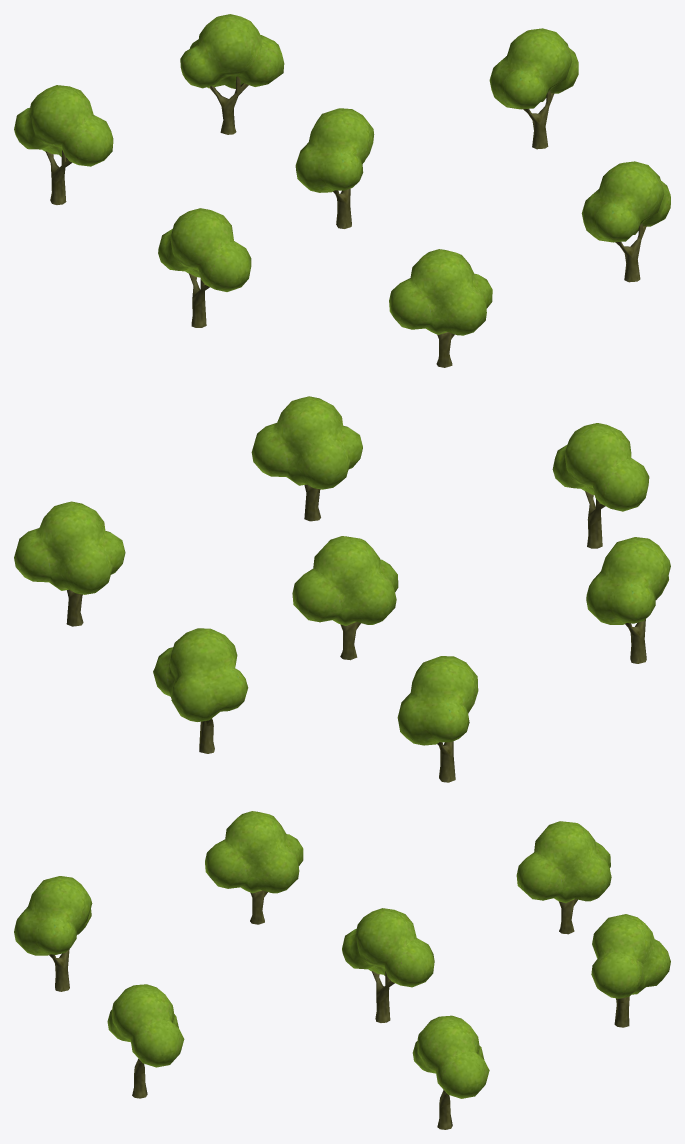
Rendered from chicken_gun_grassdaynight.glb.
3 renders of one model, top to bottom at view 1: azimuth 30°, elevation 25°; view 2: azimuth 150°, elevation 25°; view 3: azimuth 270°, elevation 25°, orthographic. The views are drawn at different scales.
Visible parts, largest first — view 1: SCA_tree2__1__1, SCA_tree2__1__2, SCA_tree2__1_, SCA_tree2__1__3, SCA_tree2__1__4, SCA_tree2__1__6, SCA_tree2__1__5; view 2: SCA_tree2__1__4, SCA_tree2__1__6, SCA_tree2__1__5, SCA_tree2__1__2, SCA_tree2__1__1, SCA_tree2__1_, SCA_tree2__1__3; view 3: SCA_tree2__1__3, SCA_tree2__1_, SCA_tree2__1__5, SCA_tree2__1__2, SCA_tree2__1__1, SCA_tree2__1__4, SCA_tree2__1__6.
Boxes of the visible parts, x1,y1,x2,y2 form: SCA_tree2__1__1: (389,249,492,367); SCA_tree2__1__2: (180,14,284,134); SCA_tree2__1_: (14,85,113,204); SCA_tree2__1__3: (158,208,251,327); SCA_tree2__1__4: (489,28,578,149); SCA_tree2__1__6: (581,161,670,282); SCA_tree2__1__5: (295,108,374,228); SCA_tree2__1__4: (14,501,125,626); SCA_tree2__1__6: (251,396,362,521); SCA_tree2__1__5: (292,536,398,660); SCA_tree2__1__2: (153,628,248,753); SCA_tree2__1__1: (552,423,649,548); SCA_tree2__1_: (397,656,478,782); SCA_tree2__1__3: (586,537,670,663); SCA_tree2__1__3: (205,811,303,924); SCA_tree2__1_: (516,821,611,934); SCA_tree2__1__5: (342,908,434,1022); SCA_tree2__1__2: (591,914,670,1027); SCA_tree2__1__1: (14,876,92,991); SCA_tree2__1__4: (412,1015,489,1129); SCA_tree2__1__6: (107,984,184,1098).
Size of what is drawn, in the model's own units: 20.35 by 4.32 by 23.69.
1 material, 1 textured.
